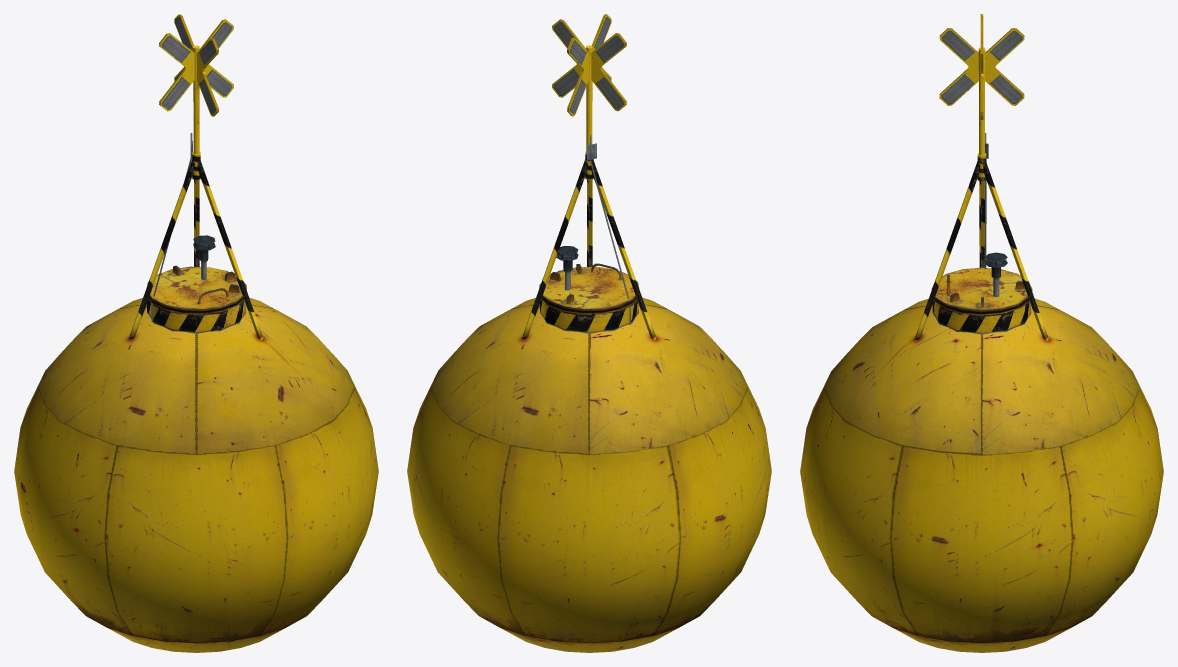
Rendered from OceanBuoy04.FBX.
3 views of the same model, side by side, from view 1: azimuth 30°, elevation 25°; view 2: azimuth 150°, elevation 25°; view 3: azimuth 270°, elevation 25° (orthographic).
Visible parts, largest first — view 1: OceanBuoy04; view 2: OceanBuoy04; view 3: OceanBuoy04.
Part boxes in pixels (box(x1,y1,x2,y2)): OceanBuoy04: box(14, 14, 378, 652); OceanBuoy04: box(407, 14, 771, 652); OceanBuoy04: box(800, 14, 1163, 652).
Bounding box in the file's own units: 120 × 120 × 222.
